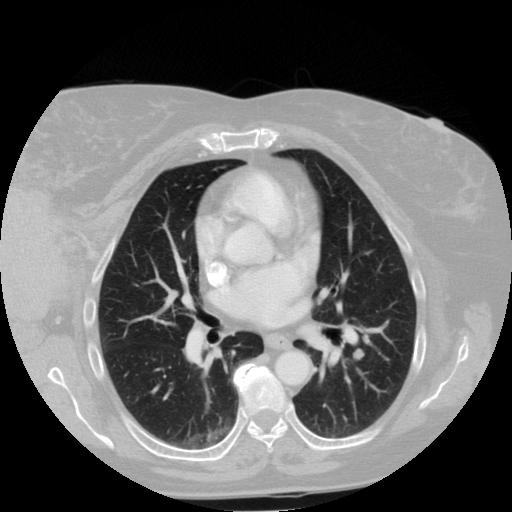nodule: (350, 347, 366, 363)
